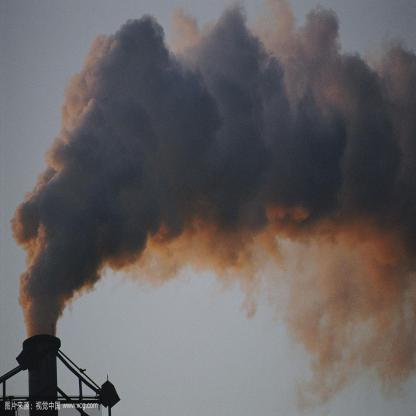smoke: (127, 0, 190, 285), (191, 4, 252, 282), (73, 36, 128, 282), (361, 37, 416, 274), (308, 16, 360, 260), (255, 10, 306, 245), (16, 168, 70, 334)
